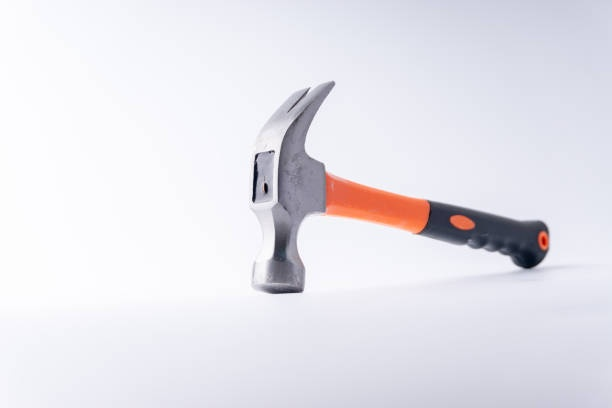hammer: (245, 80, 551, 296)
